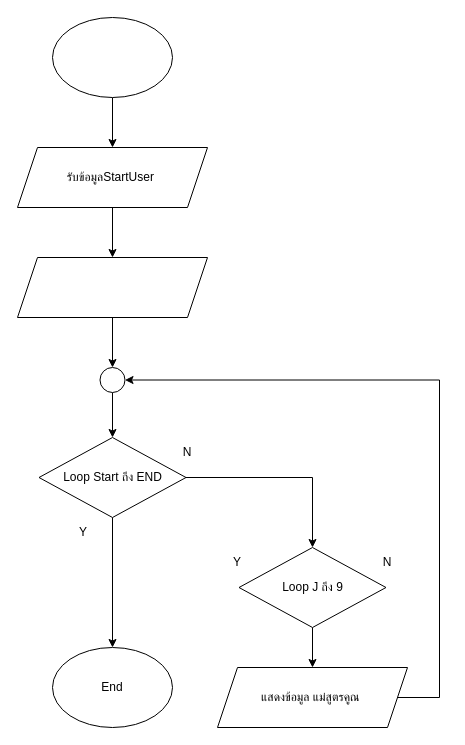
The diagram is 465 pixels wide and 745 high, and some of its shapes have lost their labels. Here are the shapes that lost their labels. From the top down, the centre of each, then its label:
At (112,57): "Start".
At (112,287): "รับข้อมูลEndUser".
